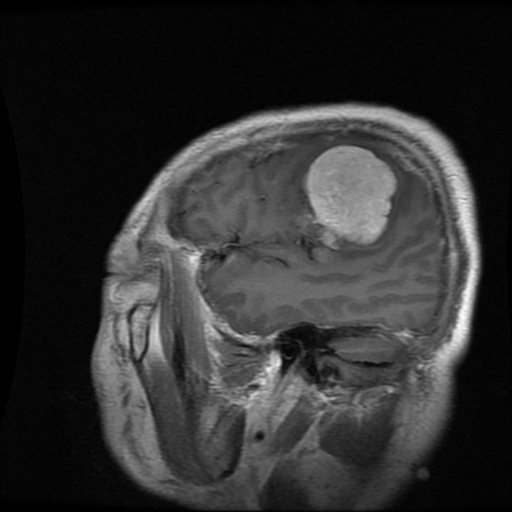meningioma: (306, 145, 397, 247)
